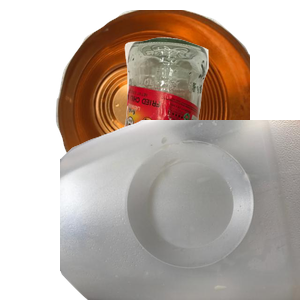glass: (112, 35, 300, 215)
metal: (53, 10, 293, 190)
plastic: (60, 120, 300, 300)
trash: (68, 158, 235, 300)
